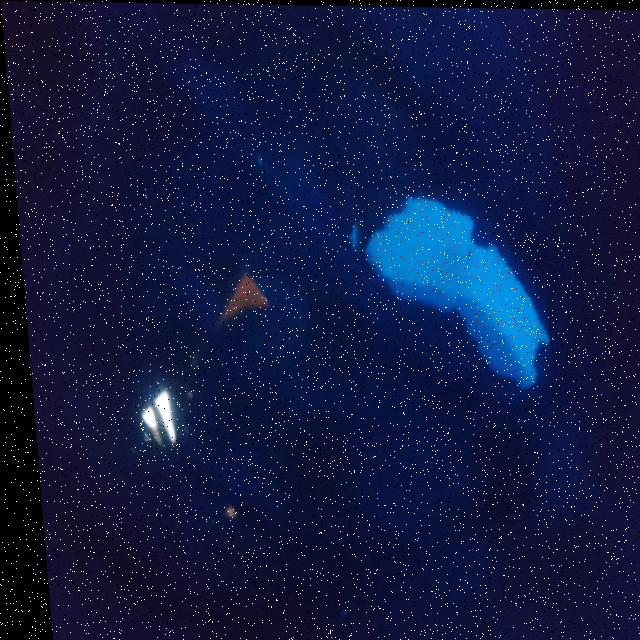litter: (330, 151, 549, 427)
